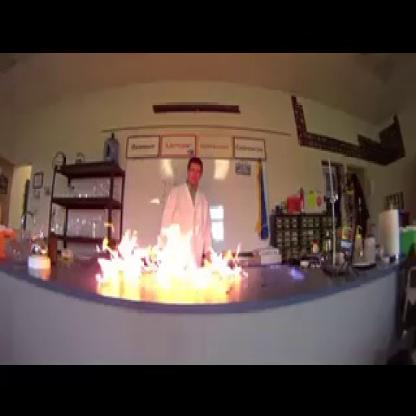fire: (93, 217, 246, 286)
